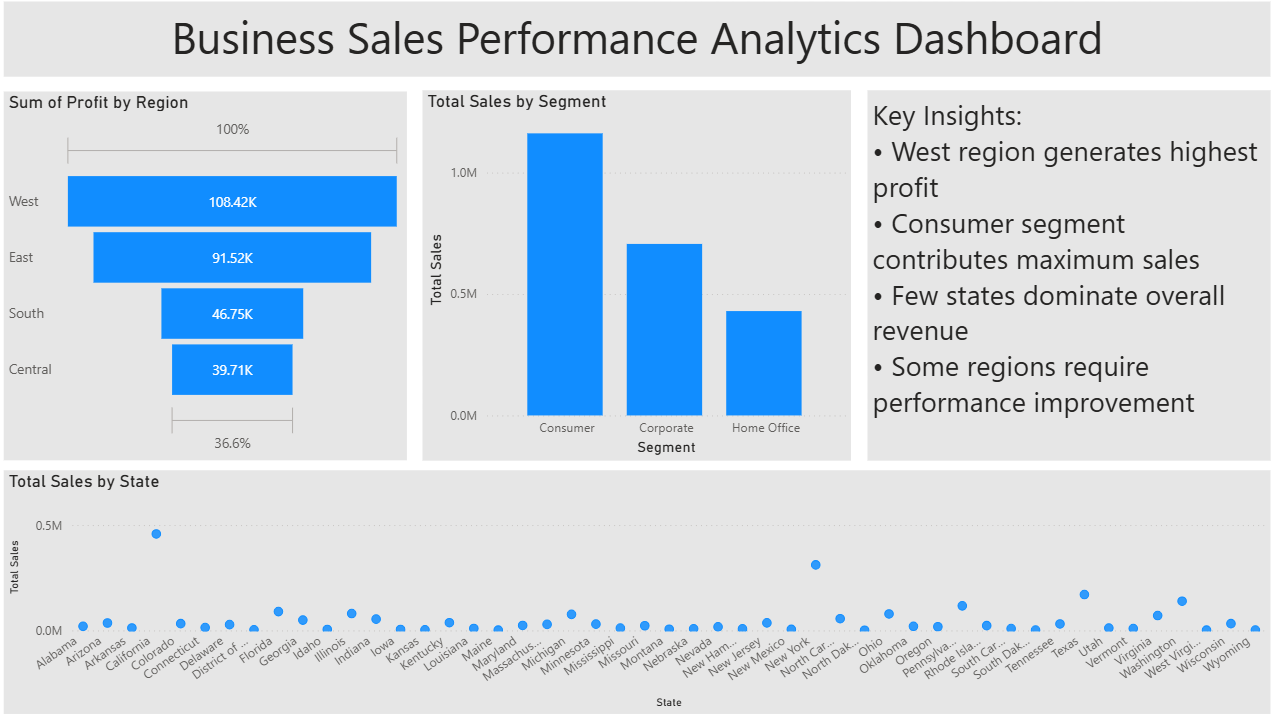

The page's visual inventory and layout, read from the dashboard file:
{"tool":"powerbi","page":{"name":"Region Performance","canvas":[1280,720],"ordinal":2},"visuals":[{"type":"funnel","fields":{"Category":["Sample - Superstore.Region"],"Y":["Sum(Sample - Superstore.Profit)"]},"box":[23.1,100.4,394.7,360.8],"z":0},{"type":"scatterChart","fields":{"X":["Sample - Superstore.State"],"Y":["Sample - Superstore.Total Sales"]},"box":[23.1,470.6,1239.6,238.7],"z":1000},{"type":"lineClusteredColumnComboChart","fields":{"Category":["Sample - Superstore.Segment"],"Y":["Sample - Superstore.Total Sales"]},"box":[432.6,99,419.1,362.1],"z":2000},{"type":"textbox","box":[23.1,12.2,1239.6,73.2],"z":2001},{"type":"textbox","box":[868,99,394.7,362.1],"z":2002}]}

Visuals, with their boxes in screenshot pixels (x1, y1, x2, y2), scaled from the page's 1280x720 canvas onto the 1274x714 screenshot:
funnel - Sample - Superstore.Region x Sum(Sample - Superstore.Profit): rect(23, 100, 416, 457)
scatterChart - Sample - Superstore.State x Sample - Superstore.Total Sales: rect(23, 467, 1257, 703)
lineClusteredColumnComboChart - Sample - Superstore.Segment x Sample - Superstore.Total Sales: rect(431, 98, 848, 457)
textbox: rect(23, 12, 1257, 85)
textbox: rect(864, 98, 1257, 457)
